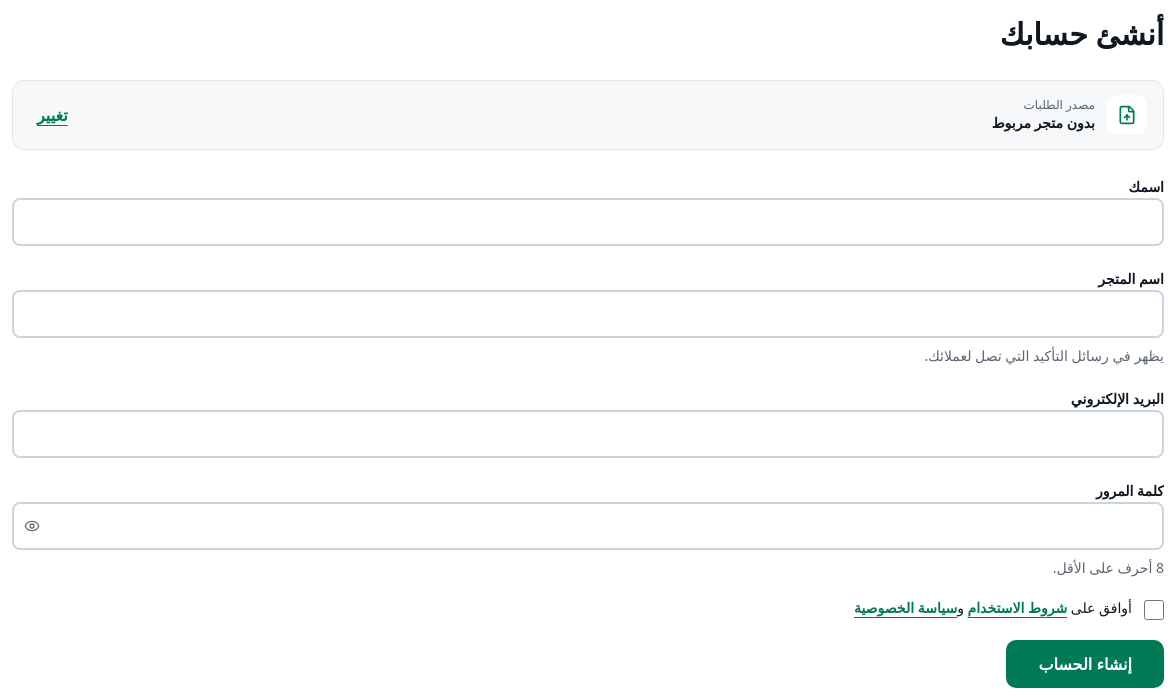
SignupForm › shows inline errors and focuses the first invalid field
The image size is (1176, 696).
Type "أحمد" into the field with id "signup-full-name". click: (588, 222)
box: [12,198,1164,246]
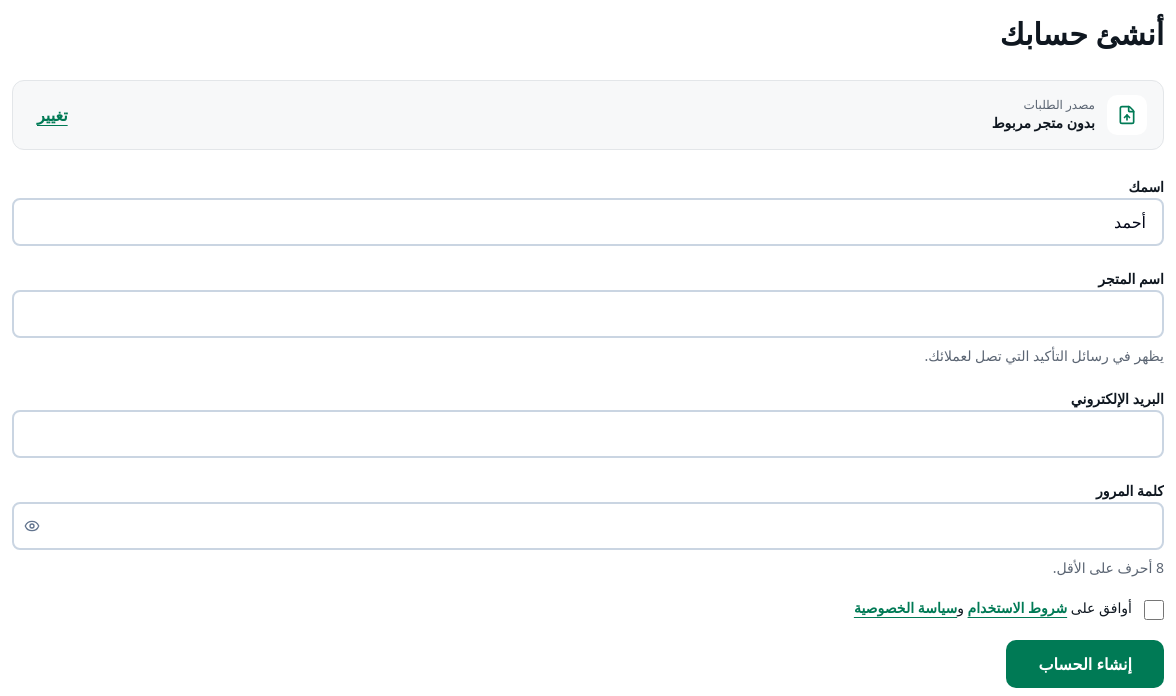
Type "1234567" into the password field with id "signup-password". click: (588, 526)
box: [12,502,1164,550]
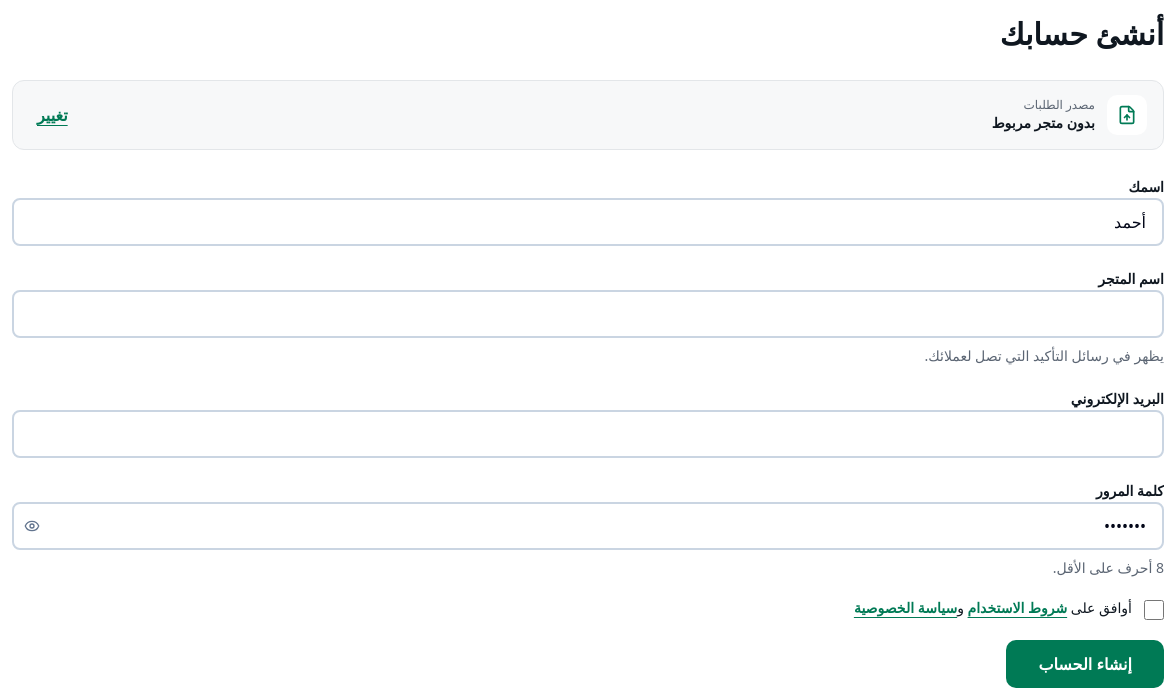
Click the button "إنشاء الحساب". click: (1085, 664)
box: [1006,640,1164,688]
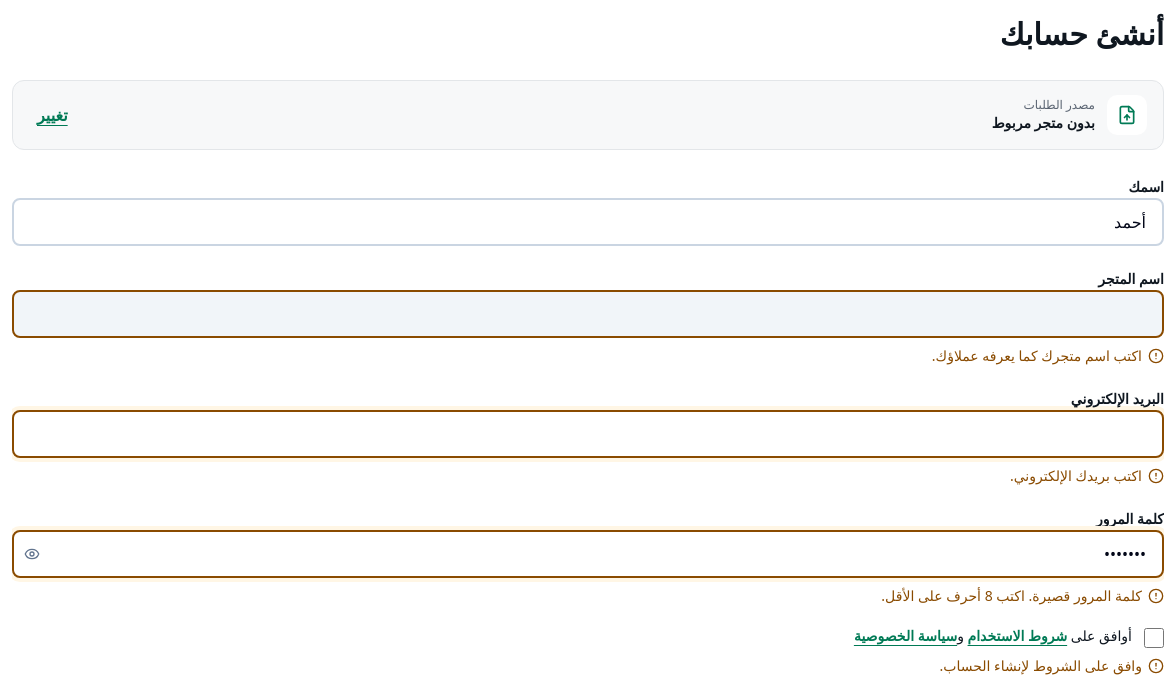
Now the text "اكتب اسم متجرك كما يعرفه عملاؤك." is shown, box [932,346,1142,366]
Now the text "كلمة المرور قصيرة. اكتب 8 أحرف على الأقل." is shown, box [881,586,1142,606]
Now the text "وافق على الشروط لإنشاء الحساب." is shown, box [940,656,1164,674]
